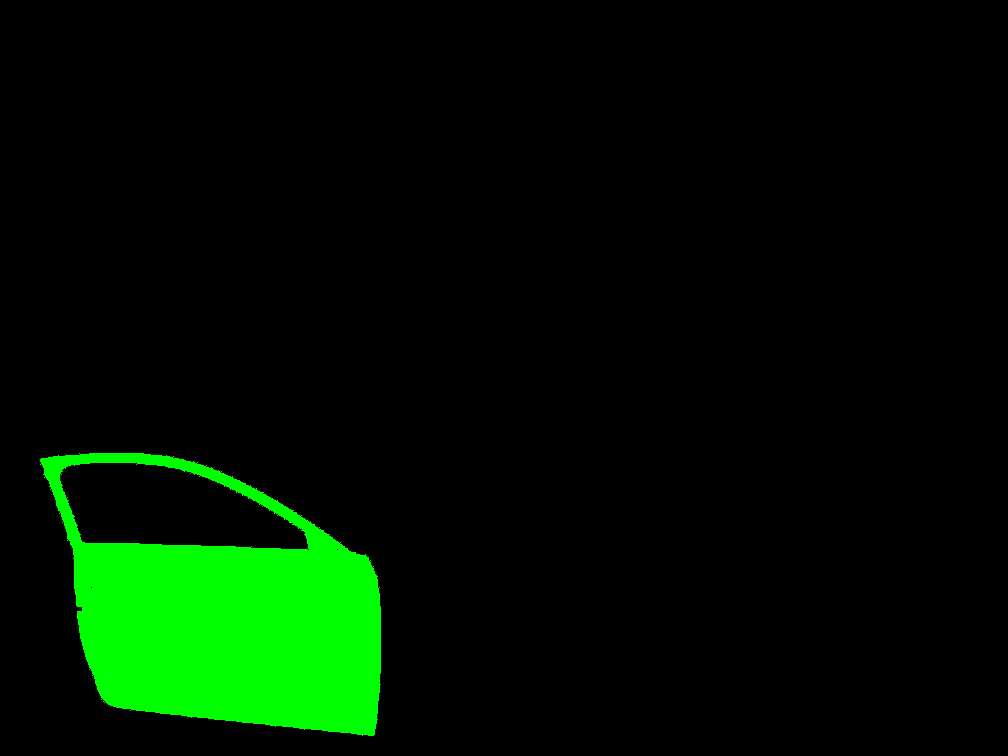car_door: (40, 453, 380, 735)
